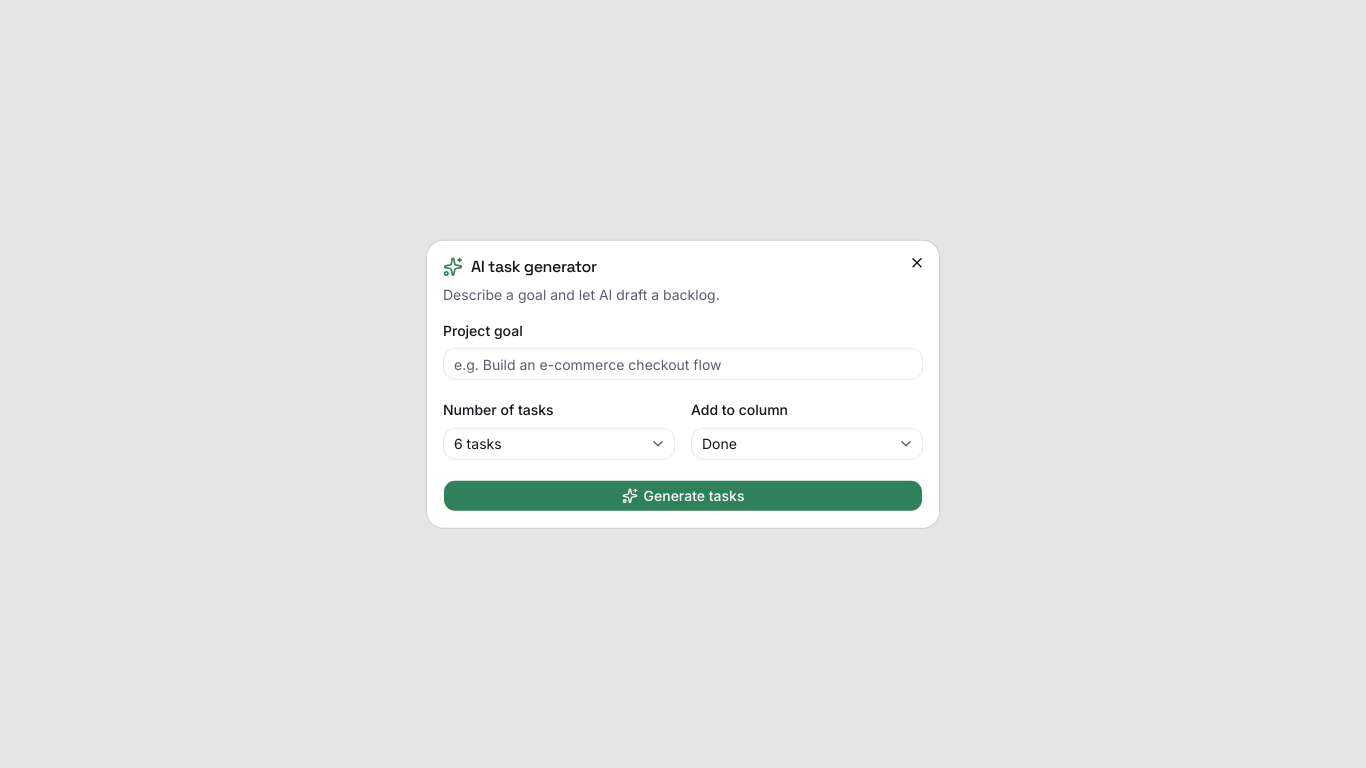
Scenario: AiGenerateDialog › asks for a goal before generating
Click the button "Generate tasks": click(683, 495) [443,479,923,511]
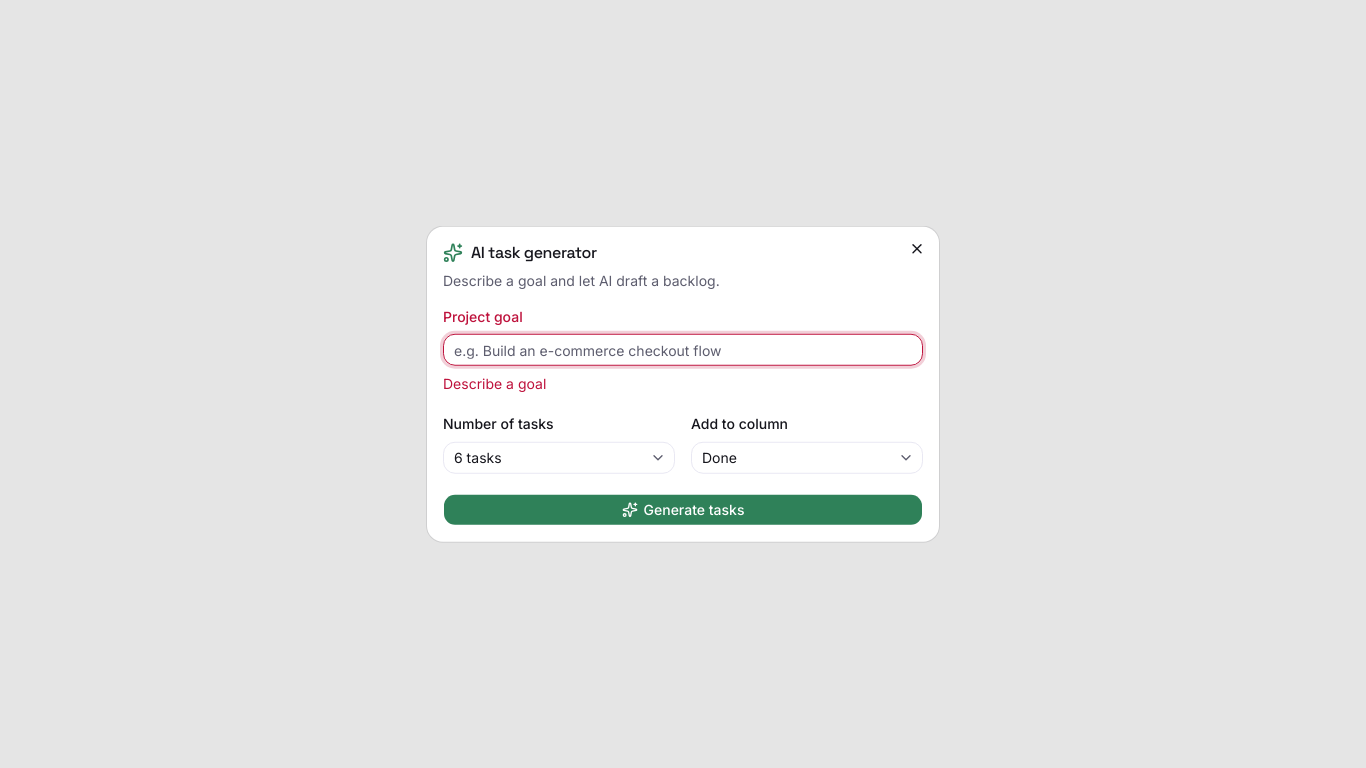
Result: the message reads "Describe a goal" at [443,375,546,392]
